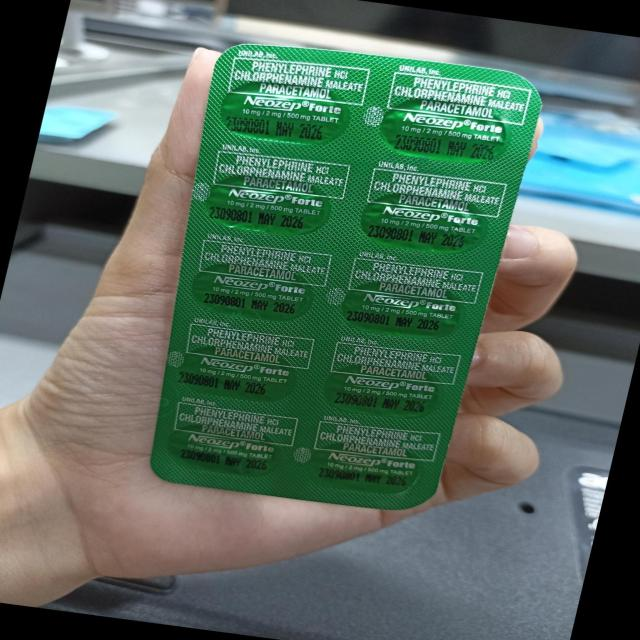Neozep_Strip: (140, 34, 553, 516)
